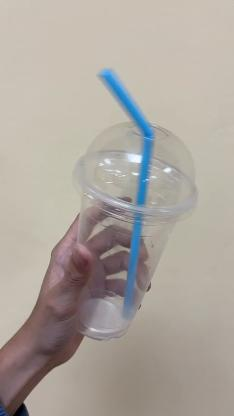Plastic Cup: (70, 118, 200, 344)
